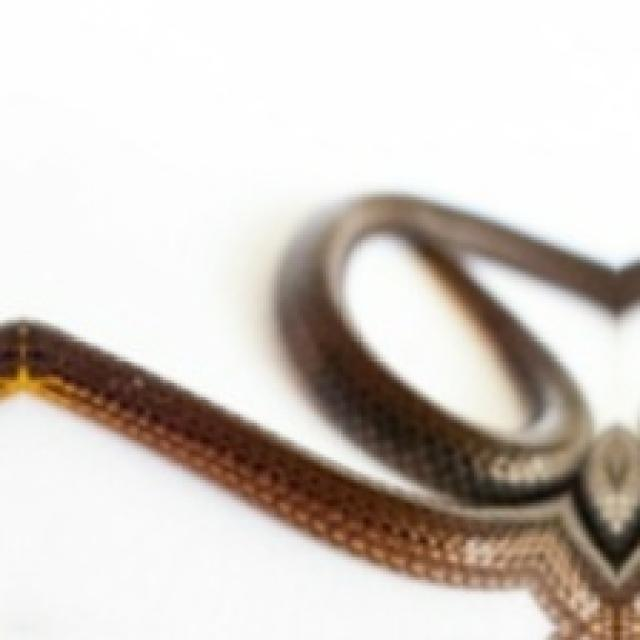gervais worm snake: (0, 194, 637, 637)
